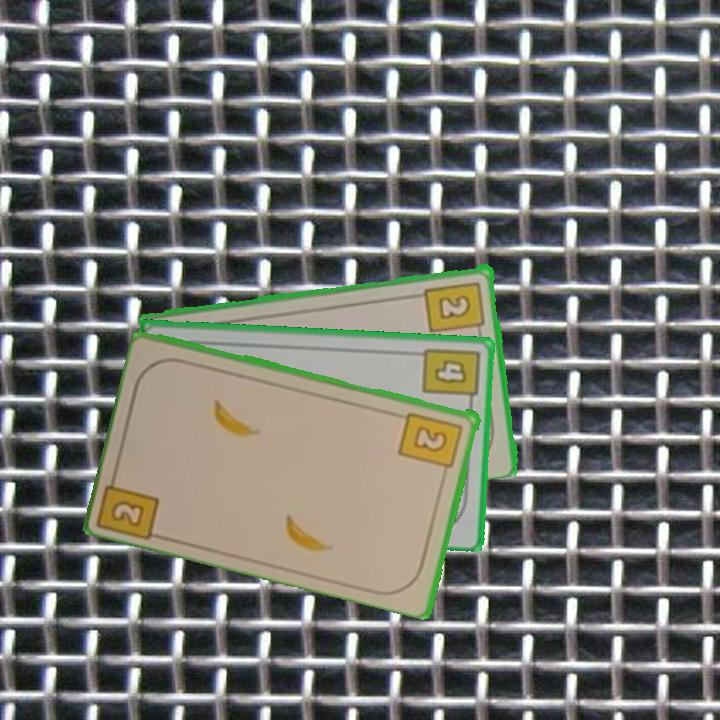2b: (97, 465, 163, 541), (396, 408, 466, 479), (422, 277, 488, 339)
4b: (419, 343, 482, 410)
